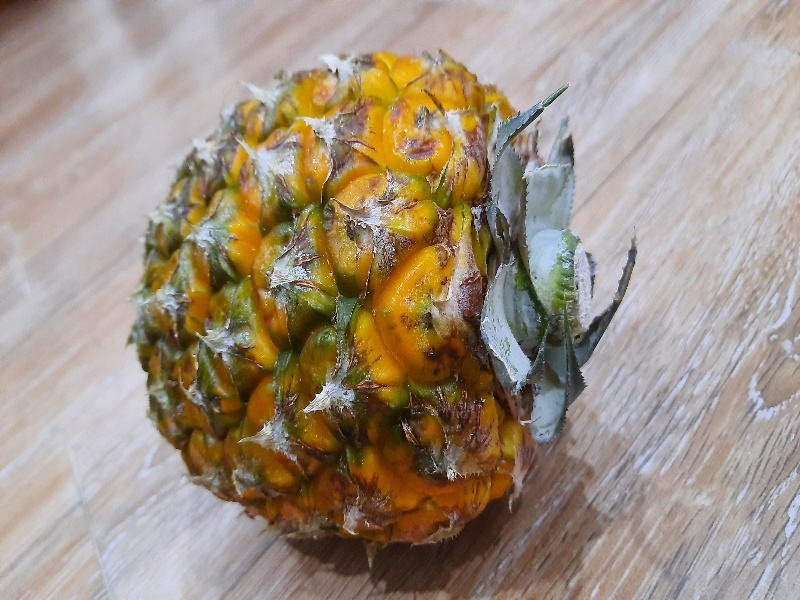fruit: (144, 47, 606, 558)
